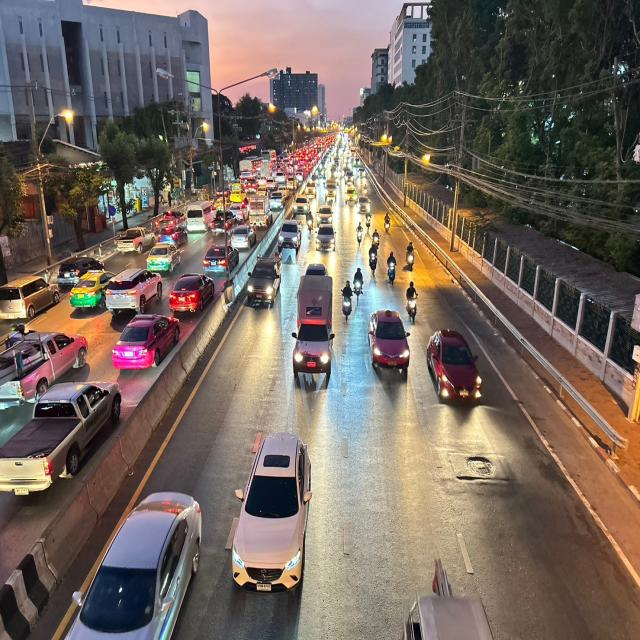truck: (288, 269, 337, 392), (243, 244, 284, 314)
